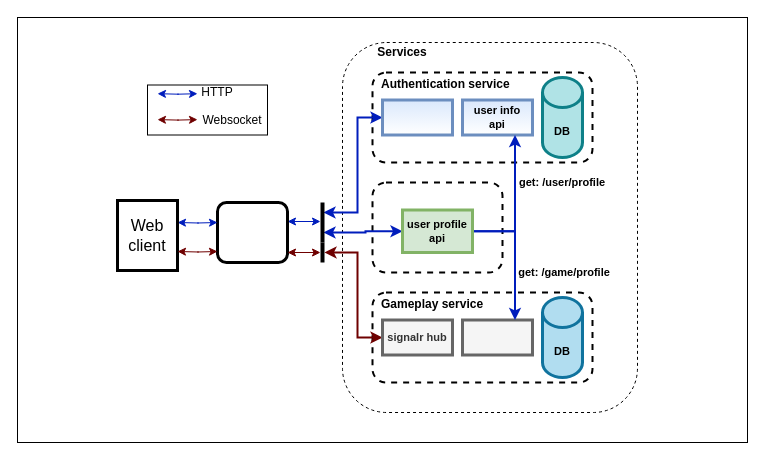
Image size: 765x460. Some labels were removed from this diagram. Here are the shapes that lost their labels. From the top down, the box of each, then its label:
(380, 98, 454, 136): jwt auth
(216, 200, 288, 264): API GATEWAY
(371, 181, 503, 273): User profile service
(460, 318, 534, 356): games api
